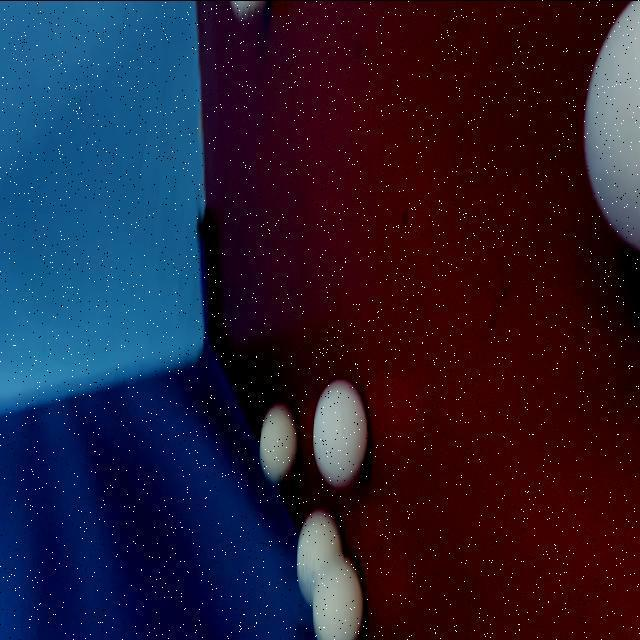ping-pong-ball: (562, 0, 640, 296), (302, 364, 372, 496), (288, 504, 348, 607), (306, 542, 368, 640), (251, 398, 299, 493)
